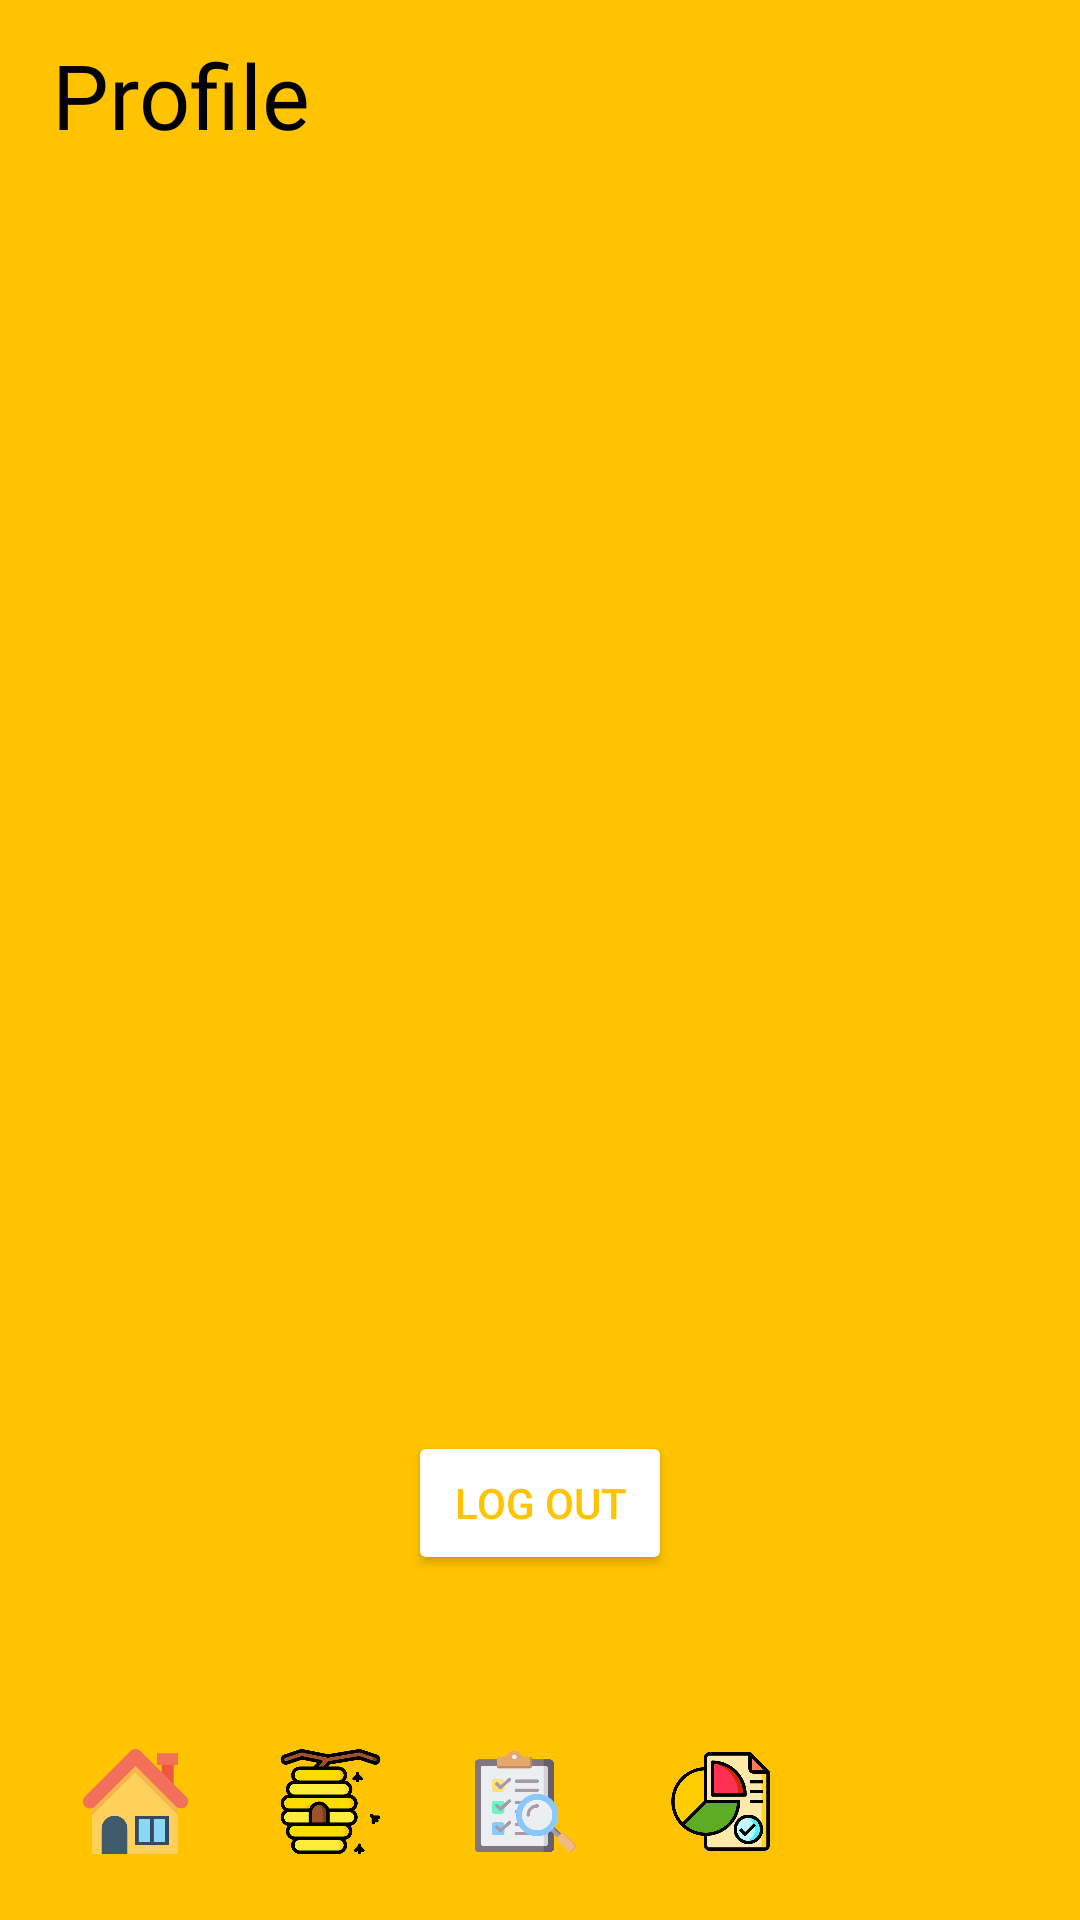

Icons on this 1080 × 1920 Android screen, each with the point to tap as (x,y):
Home: (135,1801)
Inspection: (525,1801)
Reports: (720,1801)
